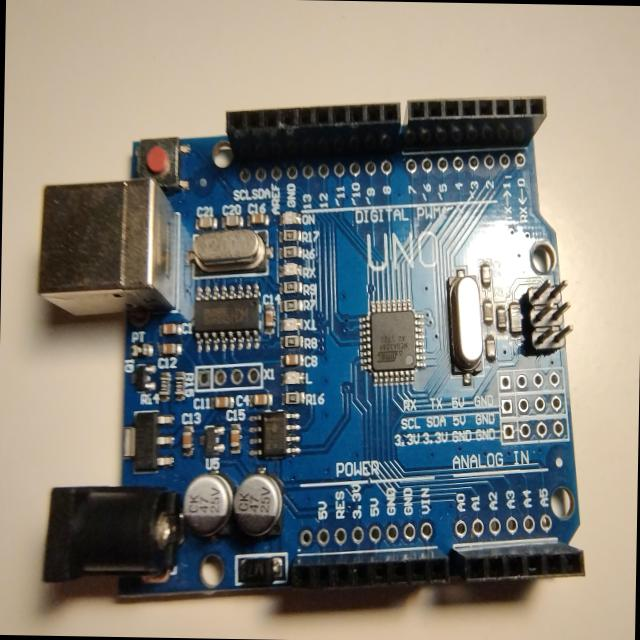arduino: (29, 84, 620, 616)
